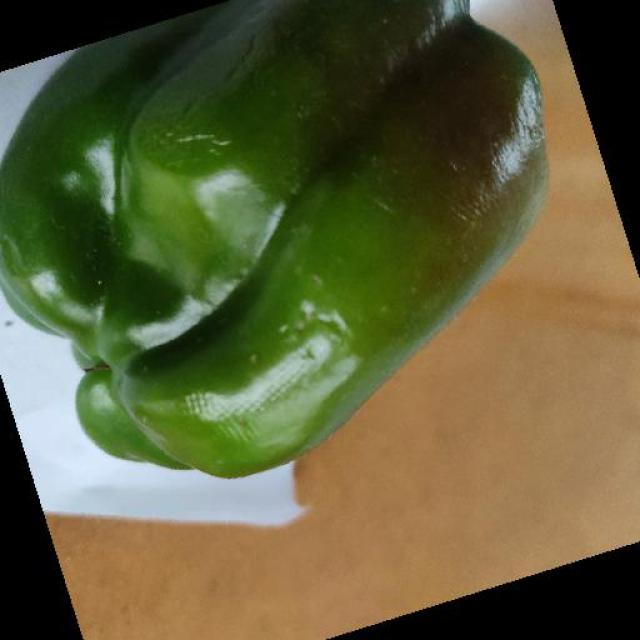Stale_Capsicum: (74, 54, 597, 360)
